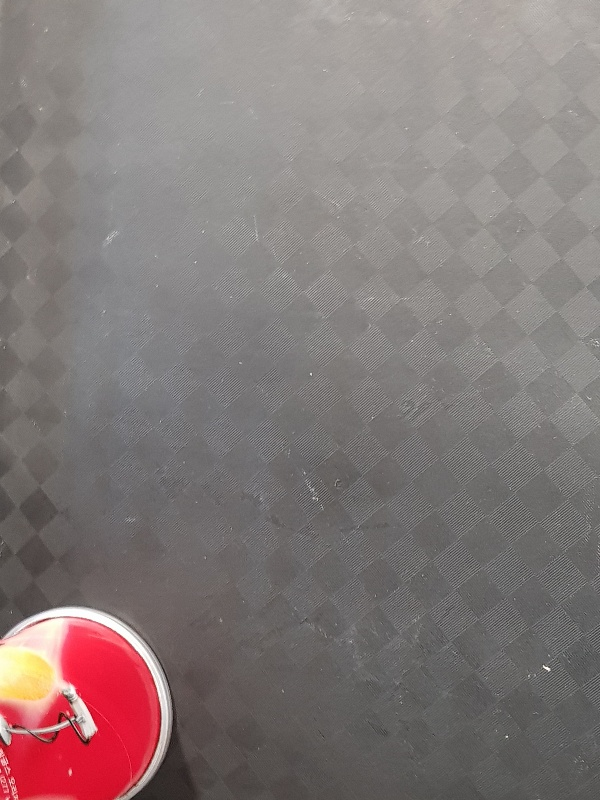Pringles Original: (1, 603, 176, 800)
